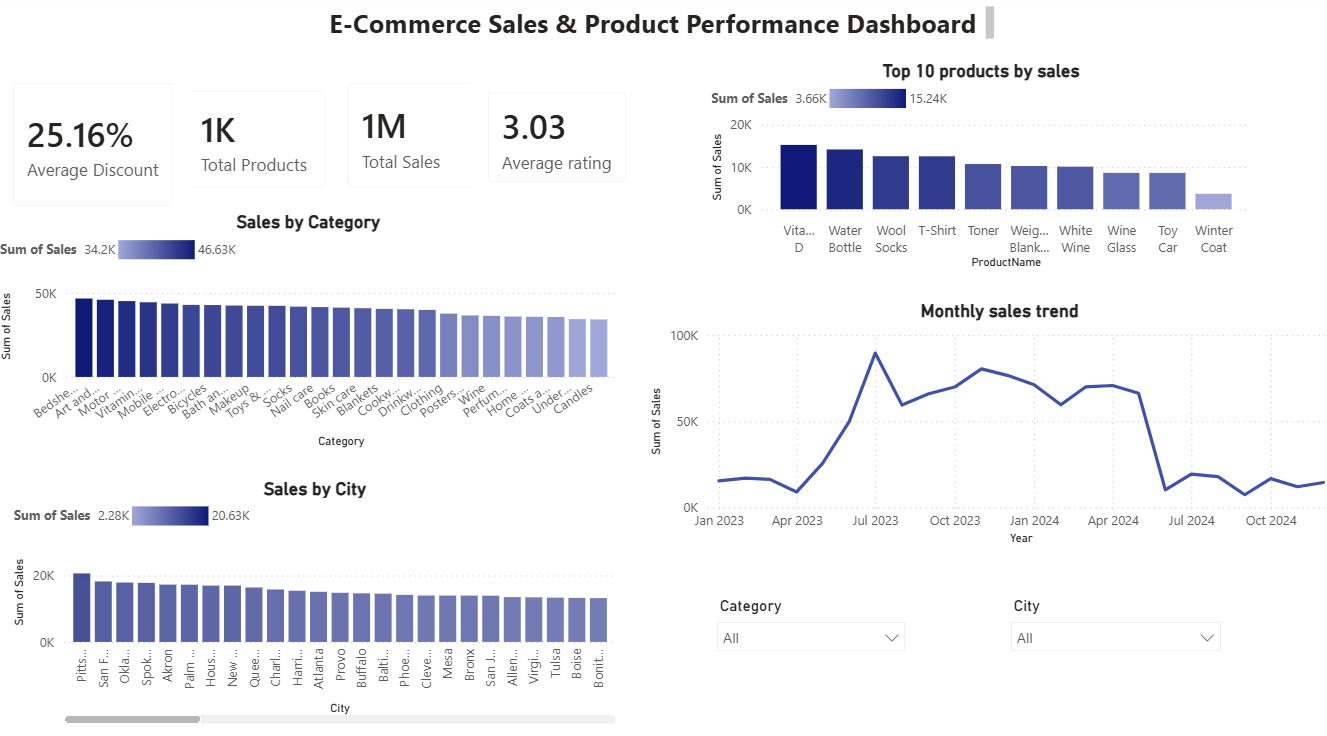

What the dashboard file says about the page in this screenshot:
{"tool":"powerbi","page":{"name":"Page 1","canvas":[1280,720],"ordinal":0},"visuals":[{"type":"clusteredColumnChart","title":" Sales by Category","fields":{"Category":["ecommerce_product_dataset2.Category"],"Y":["Sum(ecommerce_product_dataset2.Sales)"]},"box":[0,217.6,589.7,227.9],"z":0},{"type":"columnChart","title":"Sales by City","fields":{"Category":["ecommerce_product_dataset2.City"],"Y":["Sum(ecommerce_product_dataset2.Sales)"]},"box":[13.2,467.6,576.5,236.8],"z":1000},{"type":"lineChart","title":"Monthly sales trend","fields":{"Category":["ecommerce_product_dataset2.DateAdded.Variation.Date Hierarchy.Year","ecommerce_product_dataset2.DateAdded.Variation.Date Hierarchy.Month"],"Y":["Sum(ecommerce_product_dataset2.Sales)"]},"box":[611.8,301.5,667.6,235.3],"z":2000},{"type":"cardVisual","fields":{"Data":["ecommerce_product_dataset2.Total Sales"]},"box":[314.7,79.4,154.4,133.8],"z":3000},{"type":"cardVisual","fields":{"Data":["ecommerce_product_dataset2.Total Products"]},"box":[163.2,86.8,164.7,126.5],"z":4000},{"type":"cardVisual","fields":{"Data":["ecommerce_product_dataset2.Average Discount"]},"box":[0,79.4,185.3,150],"z":5000},{"type":"cardVisual","fields":{"Data":["ecommerce_product_dataset2.Average rating"]},"box":[447.1,88.2,164.7,119.1],"z":6000},{"type":"columnChart","title":"Top 10 products by sales","fields":{"Category":["ecommerce_product_dataset2.ProductName"],"Y":["Sum(ecommerce_product_dataset2.Sales)"]},"box":[669.1,75,517.6,201.5],"z":7000},{"type":"slicer","fields":{"Values":["ecommerce_product_dataset2.Category"]},"box":[669.1,575,197.1,145.6],"z":8000},{"type":"slicer","fields":{"Values":["ecommerce_product_dataset2.City"]},"box":[945.6,575,217.6,145.6],"z":9000},{"type":"textbox","box":[301.5,20.6,644.1,41.2],"z":10000}]}

Visuals, with their boxes in screenshot pixels (x1, y1, x2, y2), scaled from the page's 1280x720 canvas onto the 1327x736 screenshot:
" Sales by Category" clusteredColumnChart: 0, 222, 611, 455
"Sales by City" columnChart: 14, 478, 611, 720
"Monthly sales trend" lineChart: 634, 308, 1326, 549
cardVisual - ecommerce_product_dataset2.Total Sales: 326, 81, 486, 218
cardVisual - ecommerce_product_dataset2.Total Products: 169, 89, 340, 218
cardVisual - ecommerce_product_dataset2.Average Discount: 0, 81, 192, 234
cardVisual - ecommerce_product_dataset2.Average rating: 464, 90, 634, 212
"Top 10 products by sales" columnChart: 694, 77, 1230, 283
slicer - ecommerce_product_dataset2.Category: 694, 588, 898, 735
slicer - ecommerce_product_dataset2.City: 980, 588, 1206, 735
textbox: 313, 21, 980, 63
